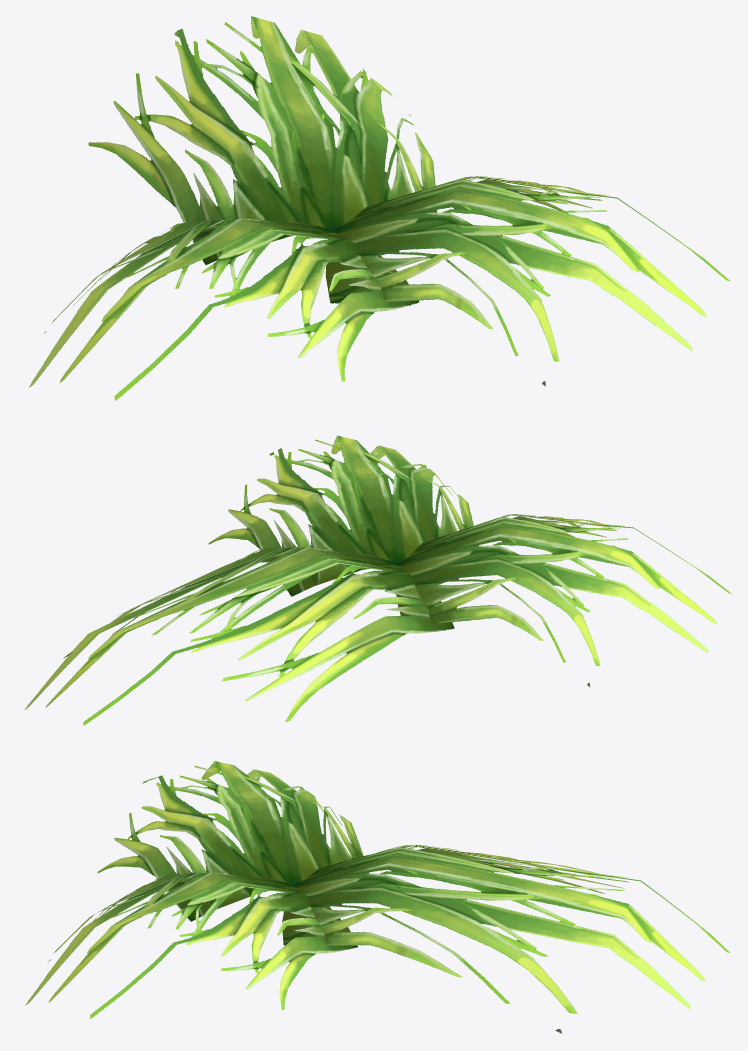
Rendered from Grass4.FBX.
3 views of the same model, one above another, from view 1: azimuth 30°, elevation 25°; view 2: azimuth 150°, elevation 25°; view 3: azimuth 270°, elevation 25° (orthographic). The views are drawn at different scales.
Visible parts, largest first — view 1: Grass4; view 2: Grass4; view 3: Grass4.
Part boxes in pixels (x1,y1,x2,y2): Grass4: (29,16,730,400); Grass4: (24,435,731,725); Grass4: (25,761,729,1033).
Bounding box in the file's own units: 149 × 26.13 × 180.
